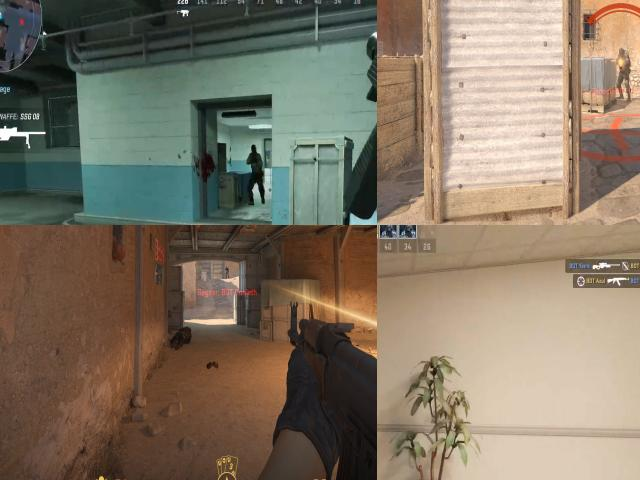CT: (619, 47, 630, 99), (226, 265, 230, 278)
CT-Head: (619, 48, 625, 57), (226, 266, 227, 268)
Dead: (172, 327, 192, 346)
T: (247, 142, 264, 192)
T-Head: (248, 144, 259, 157)
